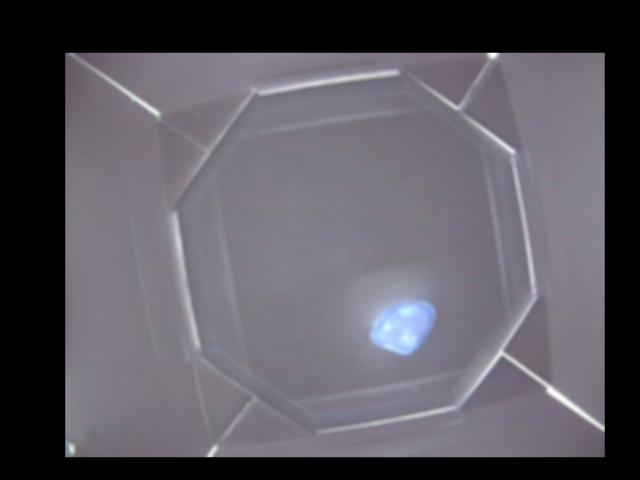Pebble: (370, 299, 435, 356)
